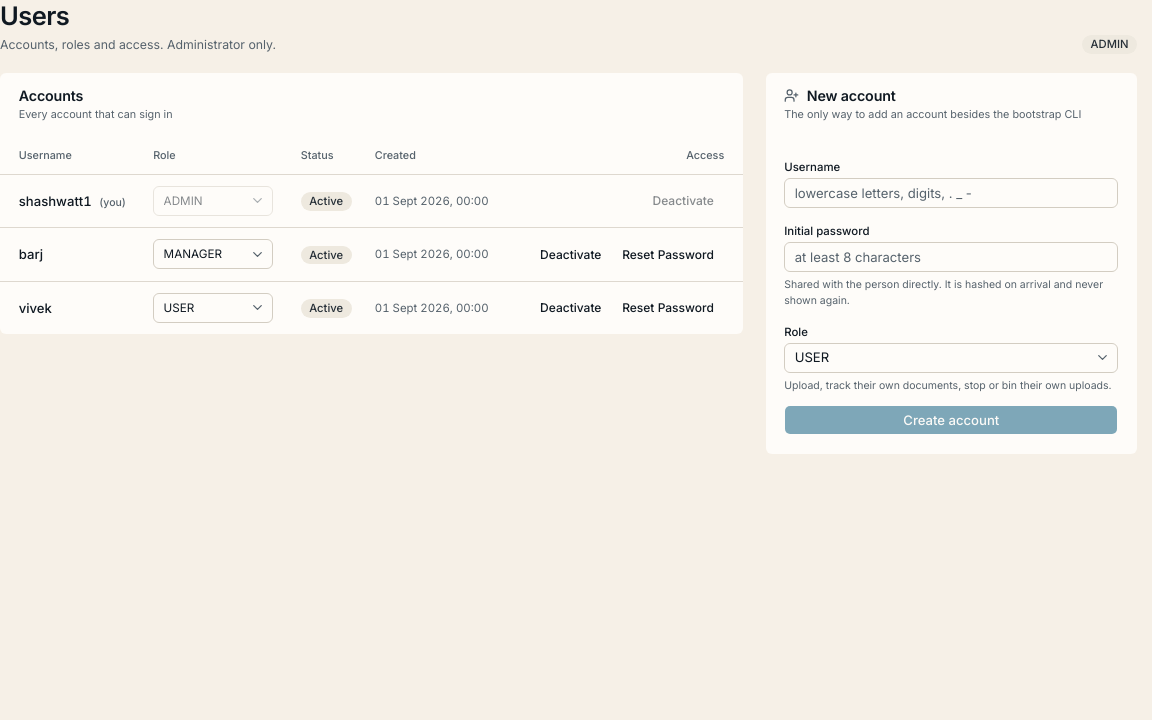
Test: admin password reset › opens a dialog for the chosen account
Click the button "Reset Password" in the row of "vivek". click: click(668, 308)
box: x1=612 y1=295 x2=724 y2=321
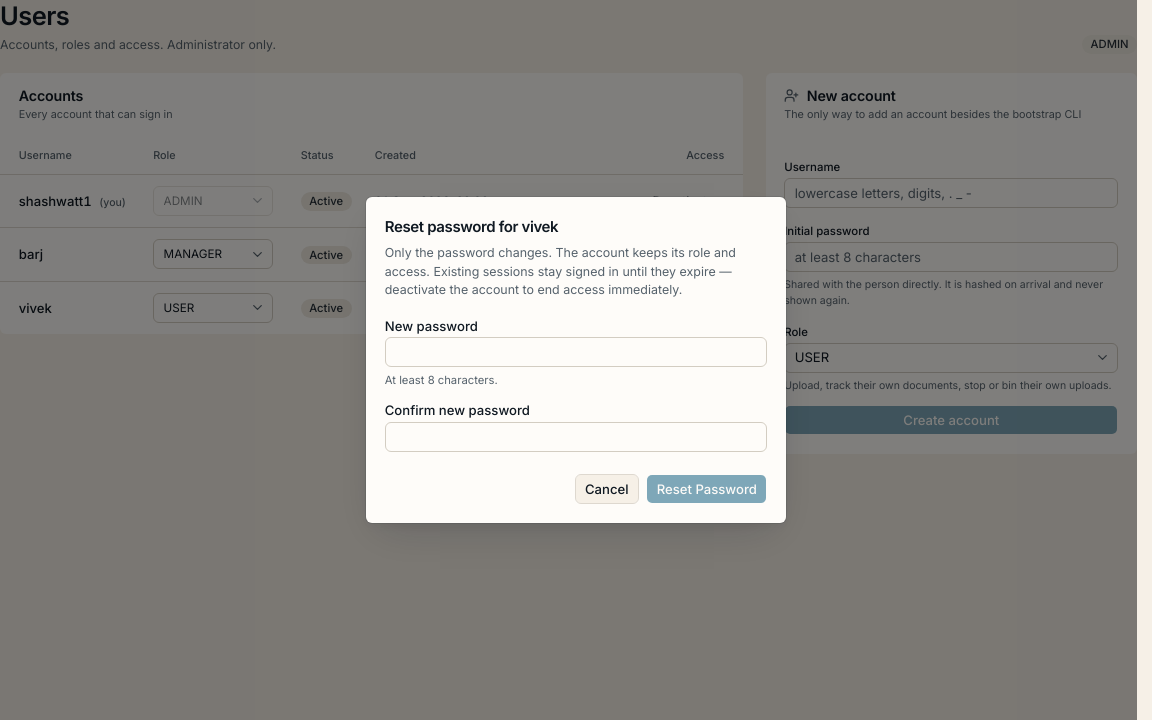
expect the heading "Reset password for vivek" is shown: met, box x1=385 y1=217 x2=558 y2=236
